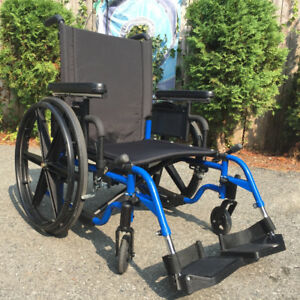wheelchair: (14, 14, 284, 295)
